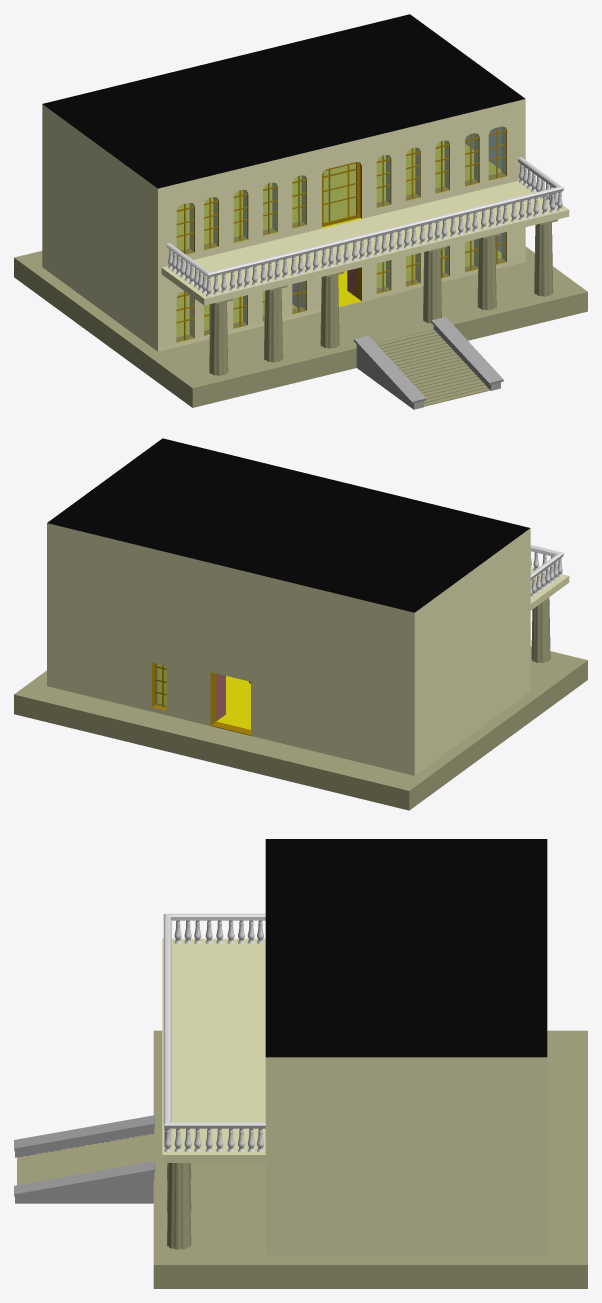
Rendered from MuseumAll.fbx.
The picture shows the model from 3 angles, top to bottom: view 1: azimuth 30°, elevation 25°; view 2: azimuth 150°, elevation 25°; view 3: azimuth 270°, elevation 25°; orthographic projection. The views are drawn at different scales.
Visible parts, largest first — view 1: Museum; view 2: Museum; view 3: Museum.
Boxes of the visible parts, x1,y1,x2,y2 form: Museum: (14, 14, 587, 409); Museum: (14, 438, 587, 810); Museum: (14, 839, 587, 1288).
Size of the model in its own units: 0.2099 by 0.0929 by 0.2172.
